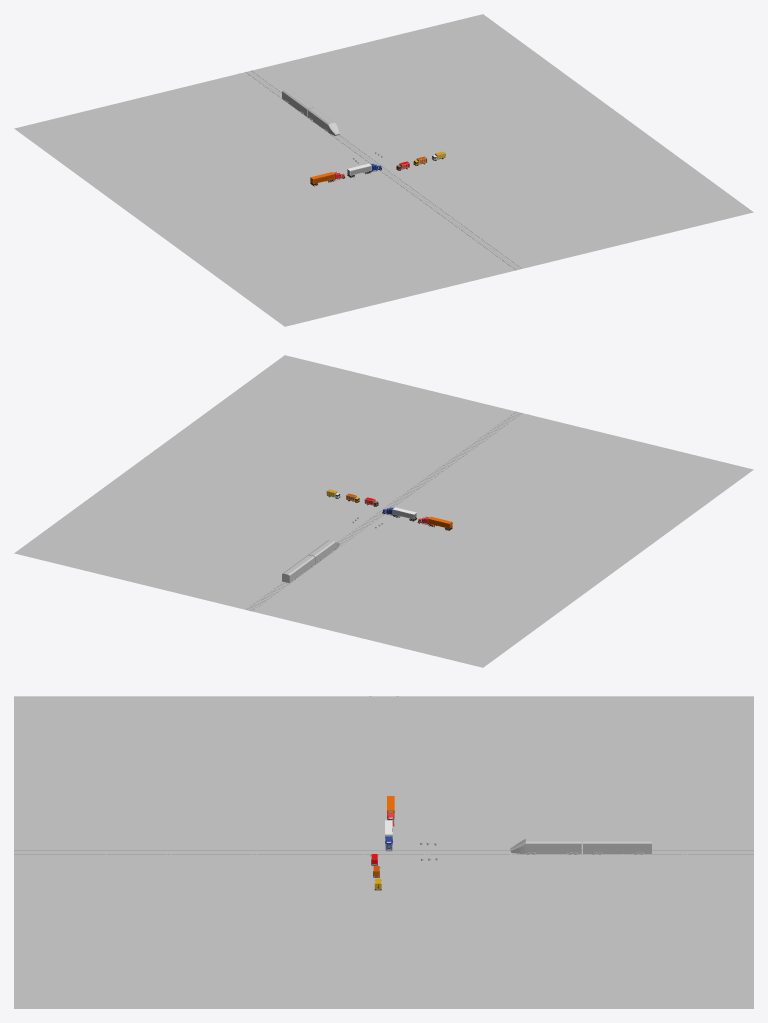
The model's file is changjing4_3.fbx.
The picture shows the model from 3 angles, top to bottom: view 1: azimuth 30°, elevation 25°; view 2: azimuth 150°, elevation 25°; view 3: azimuth 270°, elevation 25°; orthographic projection. The views are drawn at different scales.
Parts seen in each view (by area): view 1: changjing4_3, huochedao5, huoche4; view 2: changjing4_3, huochedao5, huoche4; view 3: changjing4_3, huochedao5, huoche4.
Boxes of the visible parts, bbox=[...] form: changjing4_3: bbox=[14, 14, 753, 326]; huochedao5: bbox=[245, 70, 522, 270]; huoche4: bbox=[282, 89, 339, 135]; changjing4_3: bbox=[14, 355, 753, 667]; huochedao5: bbox=[245, 411, 522, 611]; huoche4: bbox=[282, 540, 339, 583]; changjing4_3: bbox=[14, 696, 753, 1008]; huochedao5: bbox=[14, 850, 753, 854]; huoche4: bbox=[510, 838, 651, 854].
Bounding box in the file's own units: 34371 × 642 × 34371.
